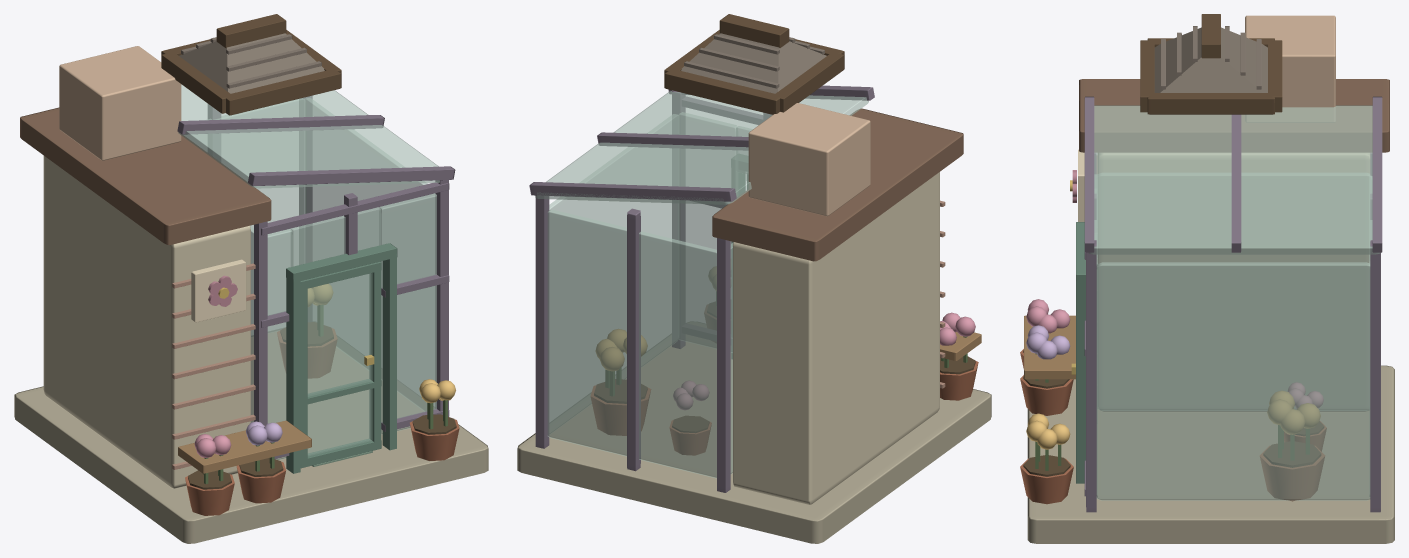
File: florist-1.glb
3 views of the same model, side by side, from view 1: azimuth 30°, elevation 25°; view 2: azimuth 150°, elevation 25°; view 3: azimuth 270°, elevation 25° (orthographic). The views are drawn at different scales.
Visible parts, largest first — view 1: florist-1-0, door-hinge; view 2: florist-1-0; view 3: florist-1-0.
Part boxes in pixels (box(x1,y1,x2,y2)): florist-1-0: box(14, 14, 488, 543); door-hinge: box(300, 261, 381, 468); florist-1-0: box(517, 14, 991, 543); florist-1-0: box(1020, 14, 1394, 543).
Size of the model in its own units: 1.9 by 2.5 by 1.94.
